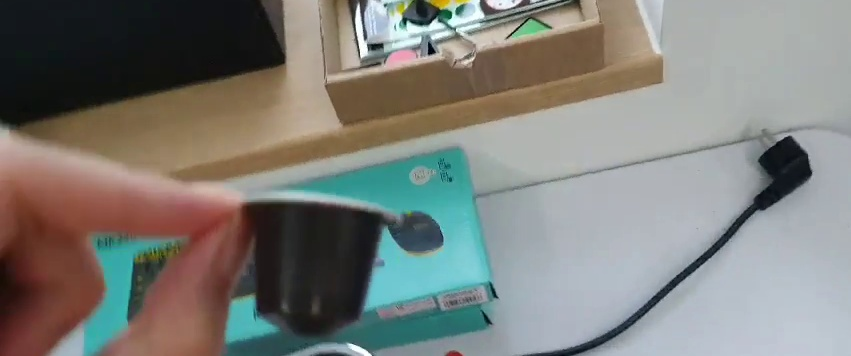capsule_4: (238, 192, 396, 342)
